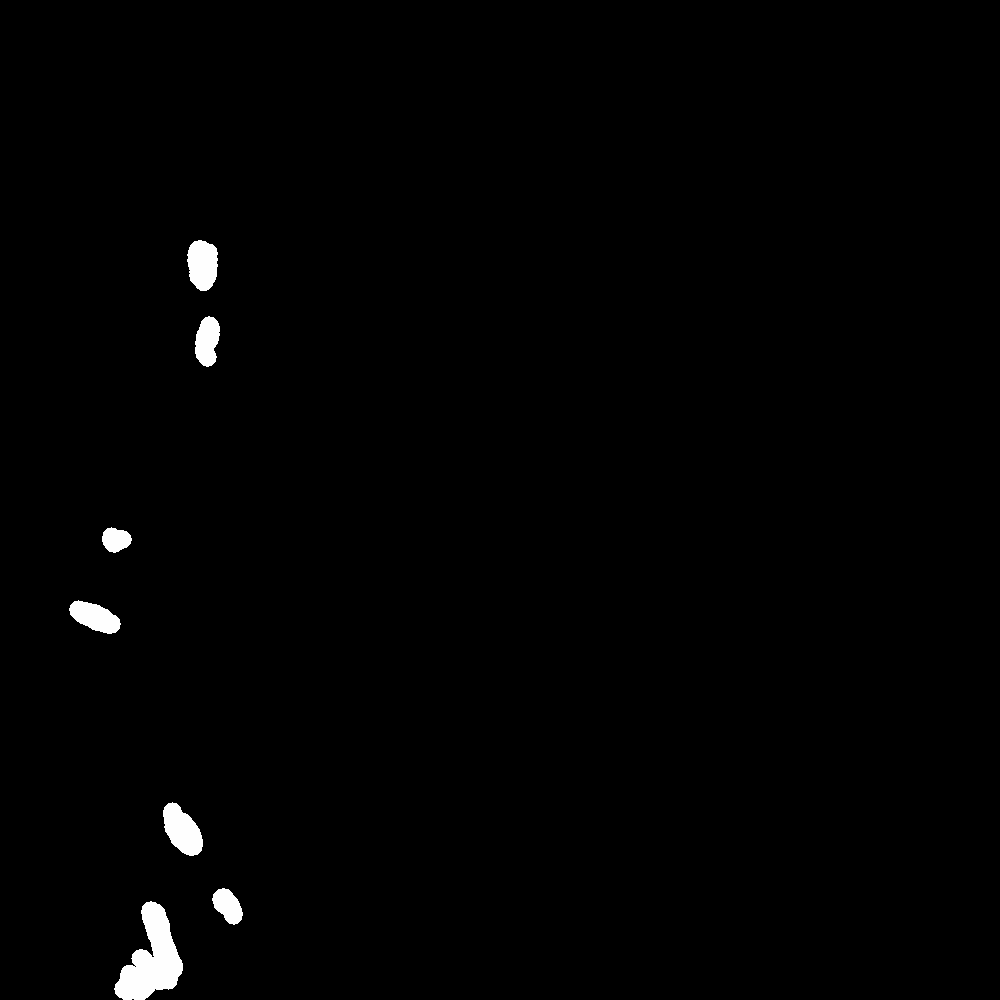illegal: (116, 909, 197, 1000)
